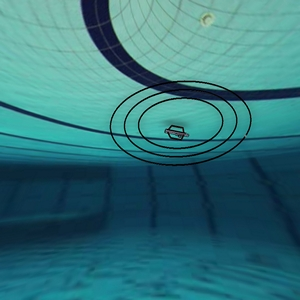circle: (103, 74, 256, 172)
submarine: (159, 122, 194, 147)
